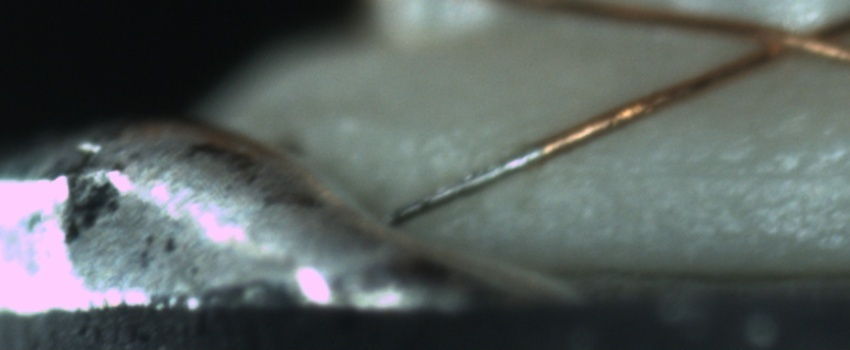CL: (747, 7, 840, 66)
DL: (538, 138, 850, 202)
TS: (382, 142, 544, 228)
